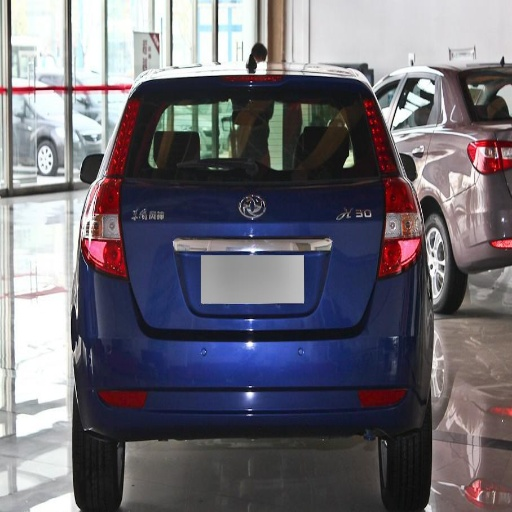back_bumper: (73, 259, 446, 482), (460, 173, 506, 268)
